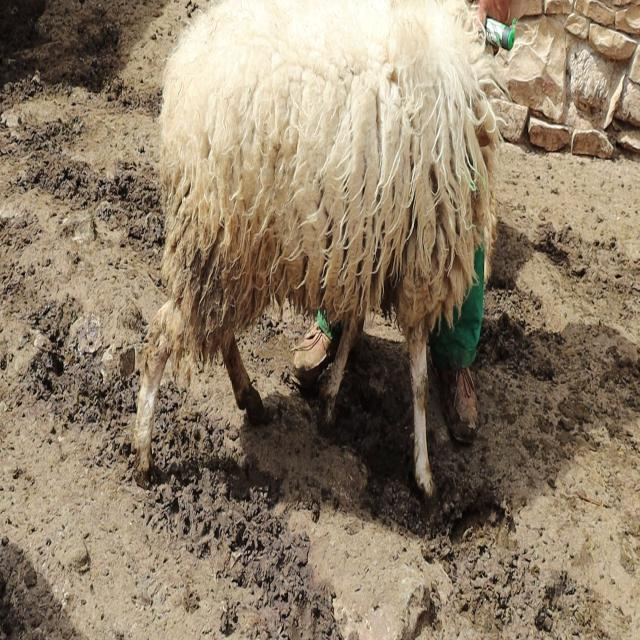Score_4: (133, 0, 504, 495)
